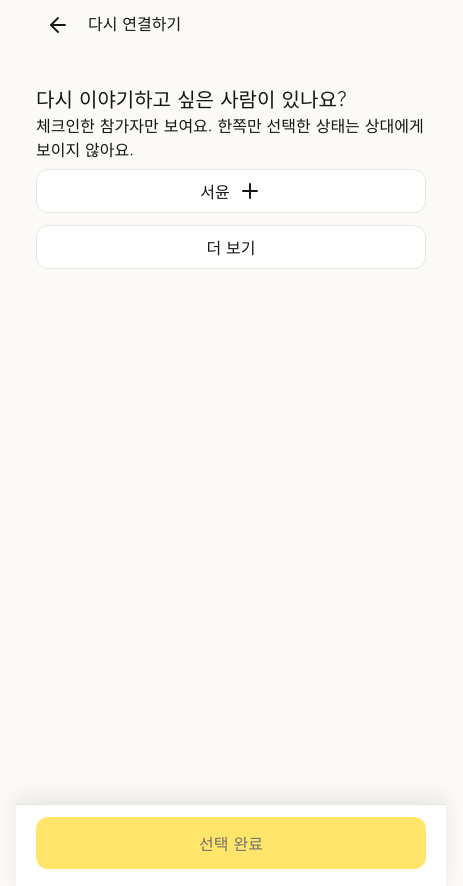
ConnectionSelectPage › appends the cursor page once and deduplicates existing participants
The image size is (463, 886).
Expected: the text "서윤" is shown, [200,179,230,203]
Click the button "더 보기" at (231, 247), box [36,225,426,269]
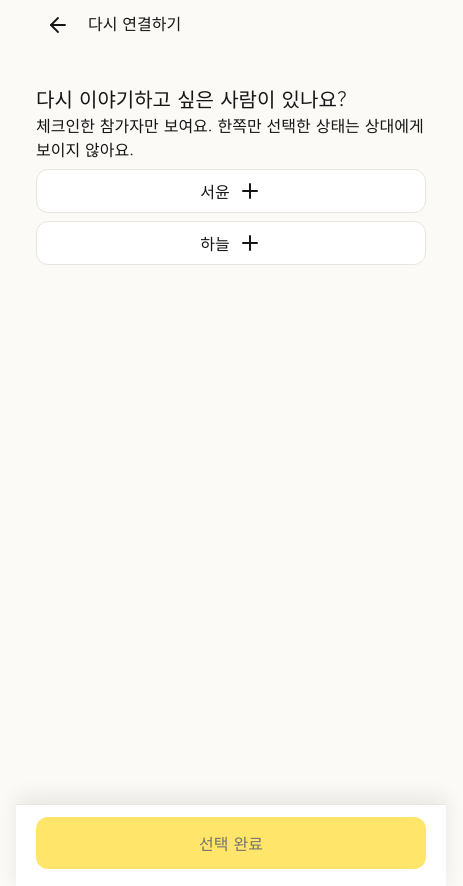
Expected: the text "하늘" is shown, [200,231,230,255]
Expected: the text "서윤" is shown once, [200,179,230,203]
